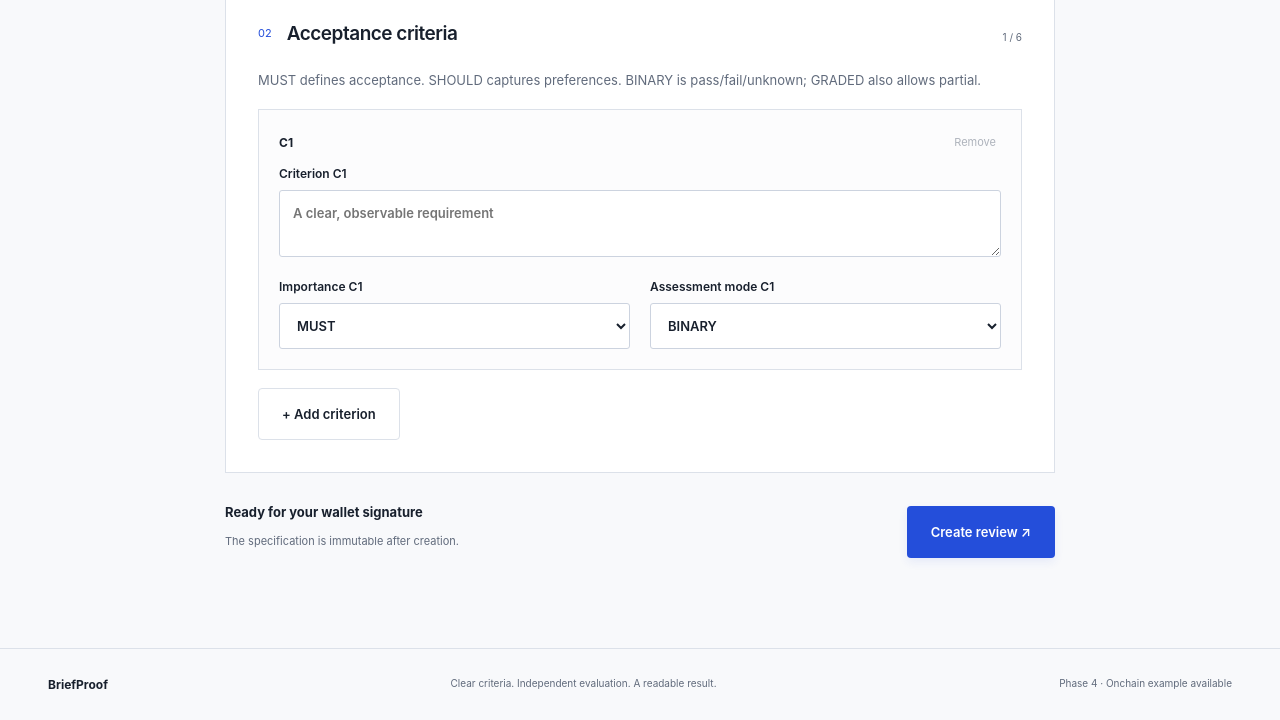
Test case: caps criterion editor at six rows
(page scrolled)
Click the button "+ Add criterion" at (329, 414), box [258,388,400,440]
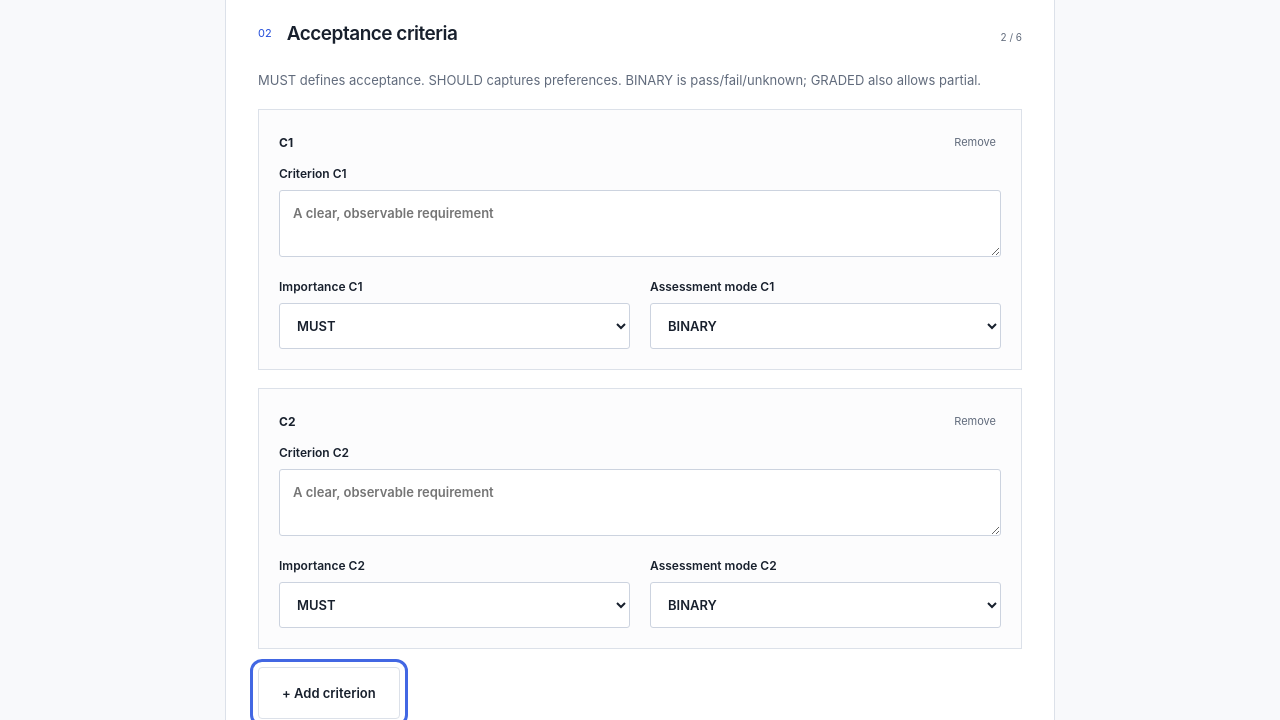
Click the button "+ Add criterion" at (329, 693), box [258,667,400,719]
(page scrolled)
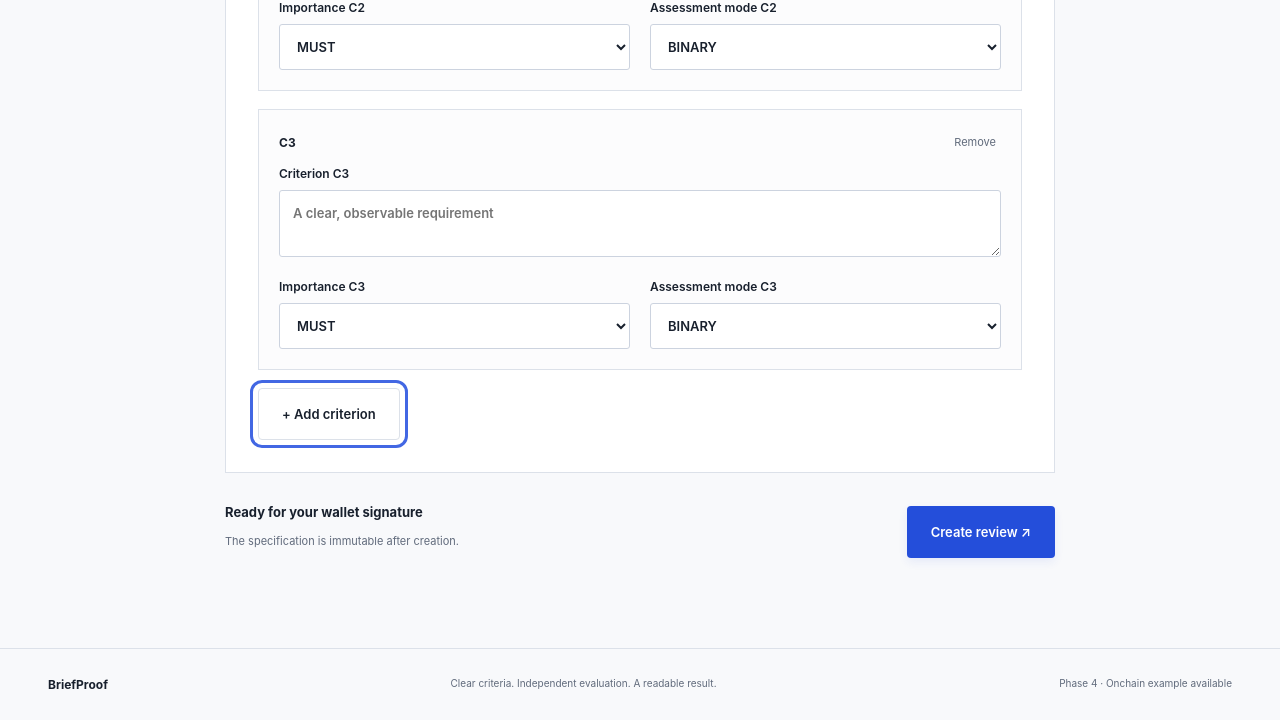
Click the button "+ Add criterion" at (329, 414), box [258,388,400,440]
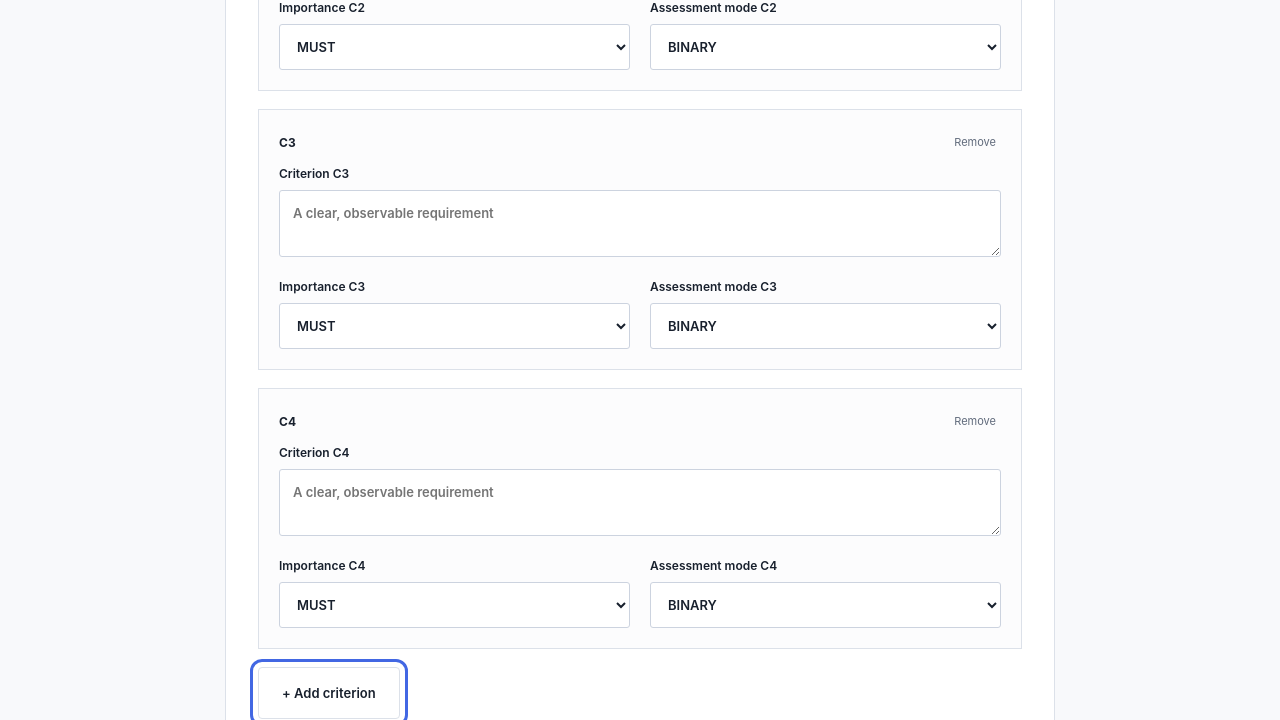
Click the button "+ Add criterion" at (329, 693), box [258,667,400,719]
(page scrolled)
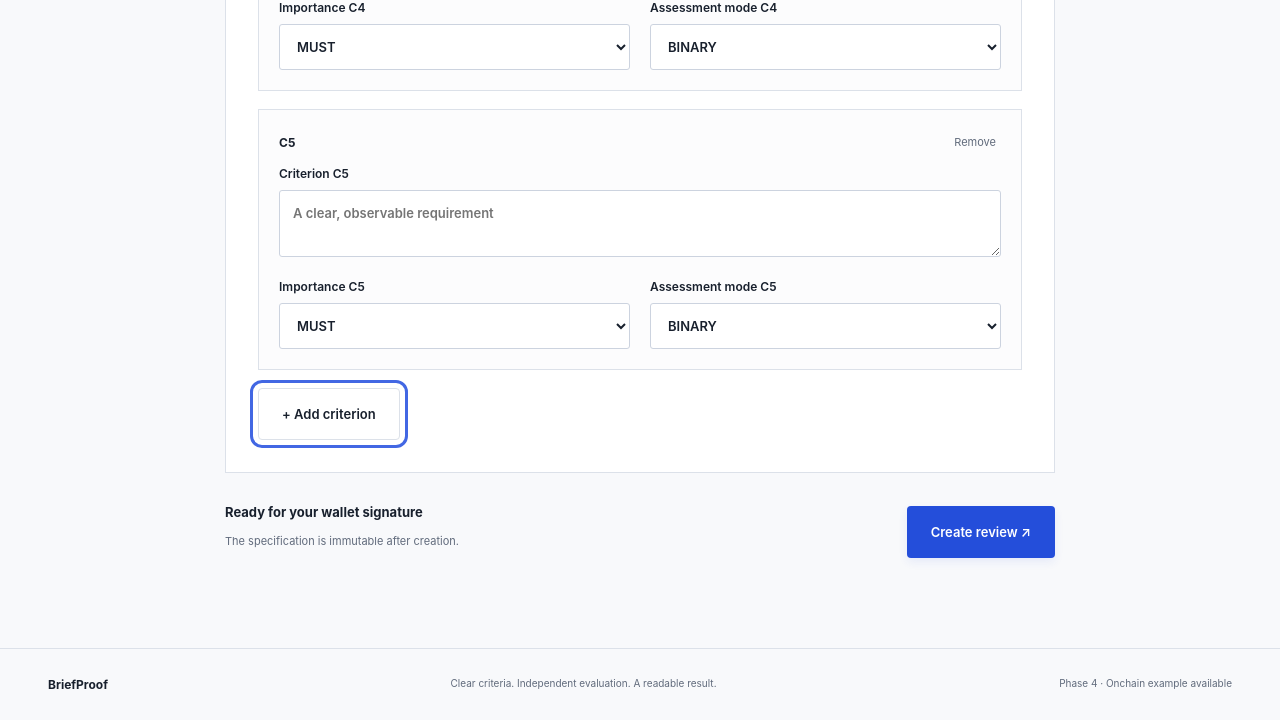
Click the button "+ Add criterion" at (329, 414), box [258,388,400,440]
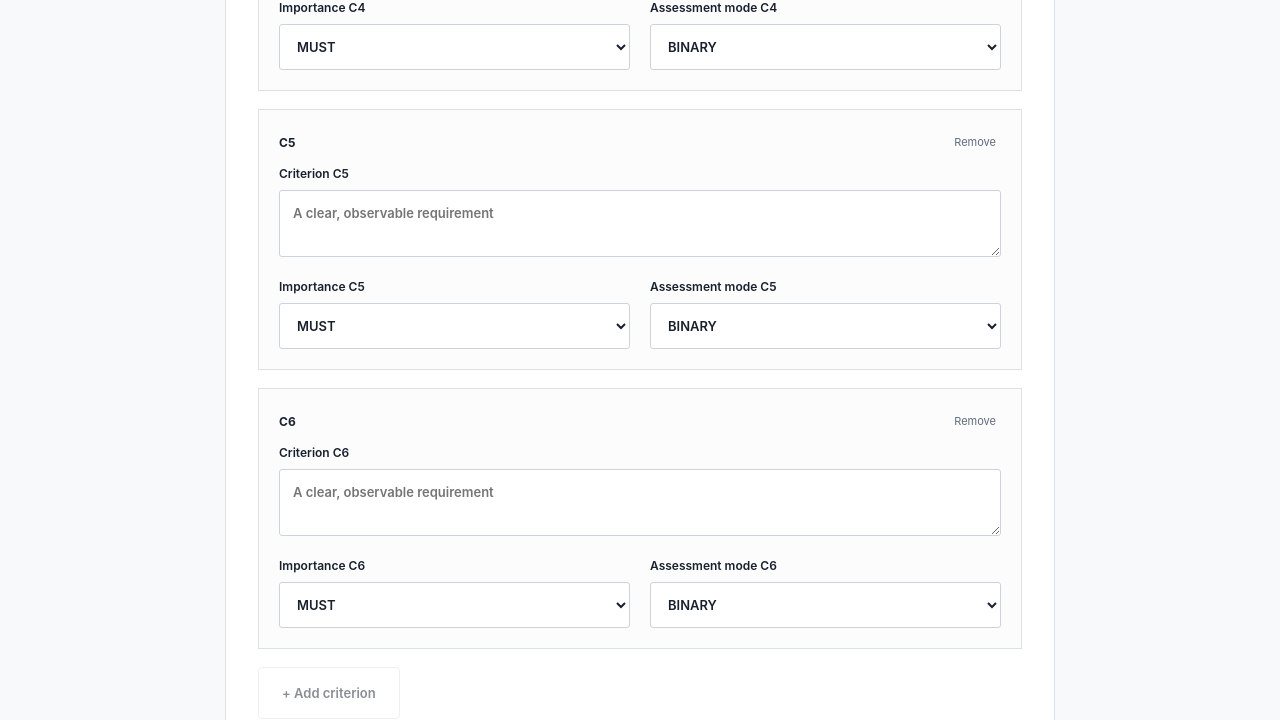
Expected: the button "+ Add criterion" is disabled, [258,667,400,719]
Expected: the text box labelled "Criterion C6" is shown, [279,469,1001,536]
